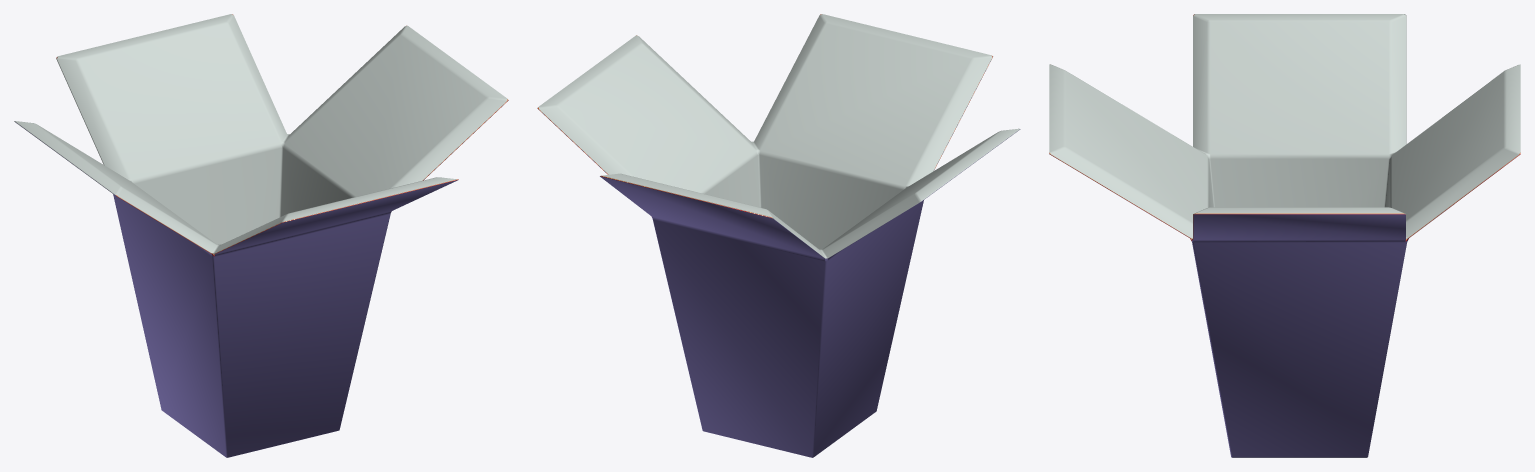
Rendered from SM_Food_2.fbx.
3 views of the same model, side by side, from view 1: azimuth 30°, elevation 25°; view 2: azimuth 150°, elevation 25°; view 3: azimuth 270°, elevation 25° (orthographic). The views are drawn at different scales.
Visible parts, largest first — view 1: SM_Food_2_LOD0; view 2: SM_Food_2_LOD0; view 3: SM_Food_2_LOD0.
Boxes of the visible parts, bbox=[...] form: SM_Food_2_LOD0: bbox=[14, 14, 508, 457]; SM_Food_2_LOD0: bbox=[537, 14, 1020, 457]; SM_Food_2_LOD0: bbox=[1049, 14, 1520, 457].
Size of the model in its own units: 36.33 by 36.2 by 27.23.
1 material, 1 textured.
